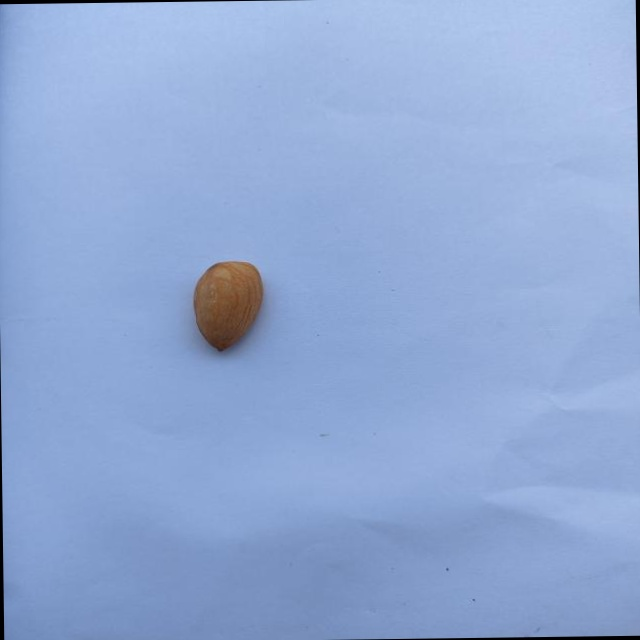grade2: (190, 258, 271, 355)
